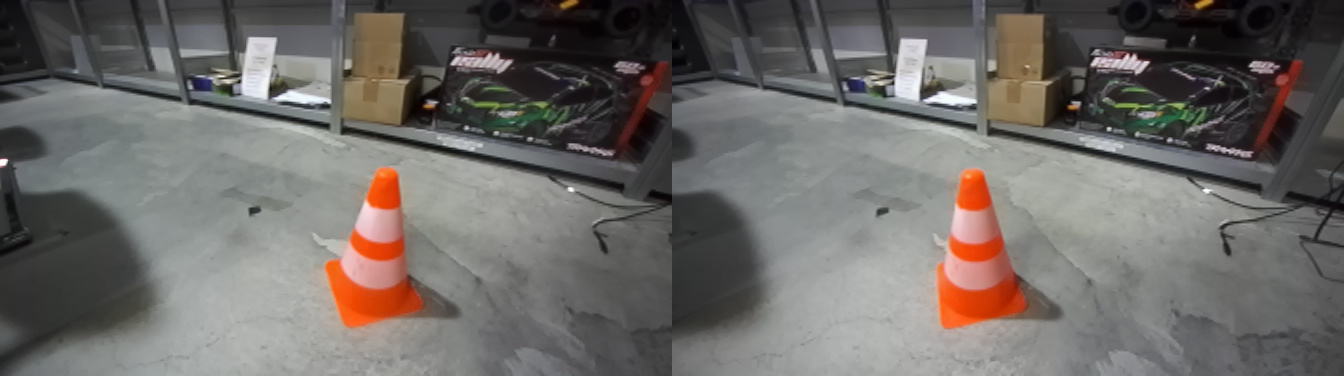cone: (322, 166, 429, 335), (937, 169, 1035, 334)
